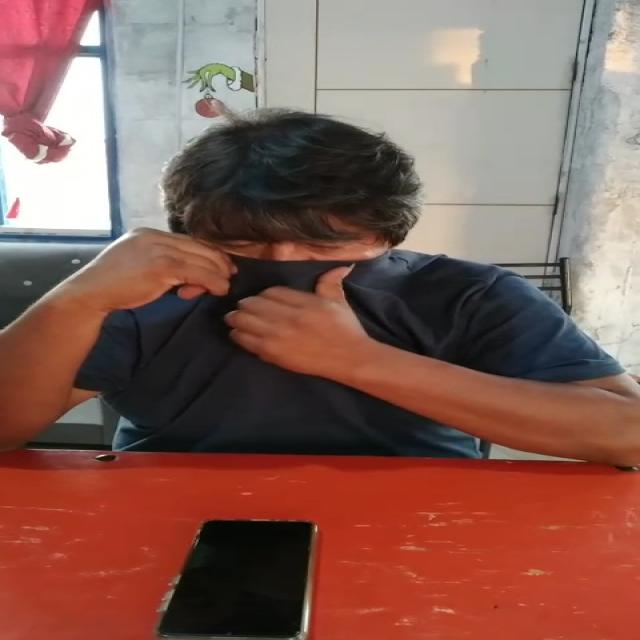8_ropa_rostro: (94, 243, 488, 345)
